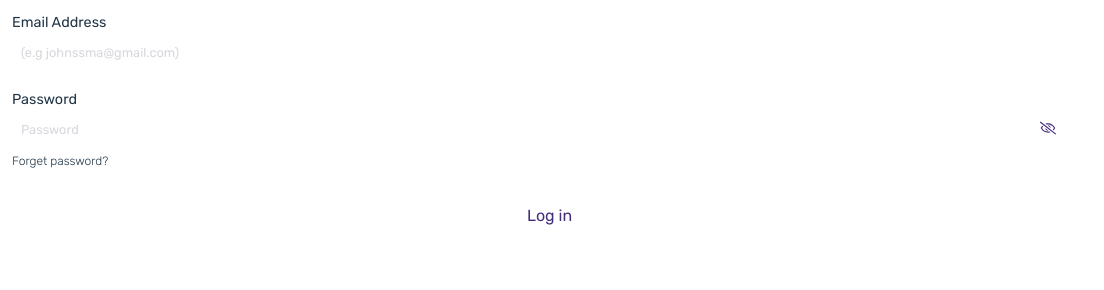
Test: LoginForm › shows required error for email on empty submit
What coordinates should you click on to do the following:
click the button
I would click on:
 (550, 216)
Its box is x1=12 y1=196 x2=1087 y2=236.
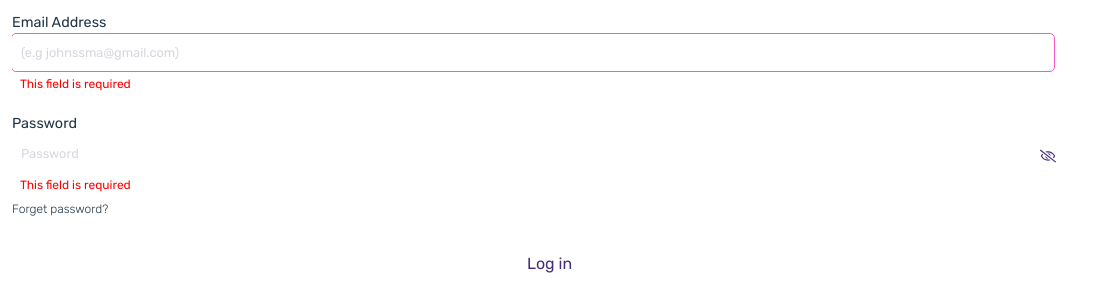
Expected: the text "This field is required" below "Email Address" is shown, x1=20 y1=77 x2=131 y2=91
